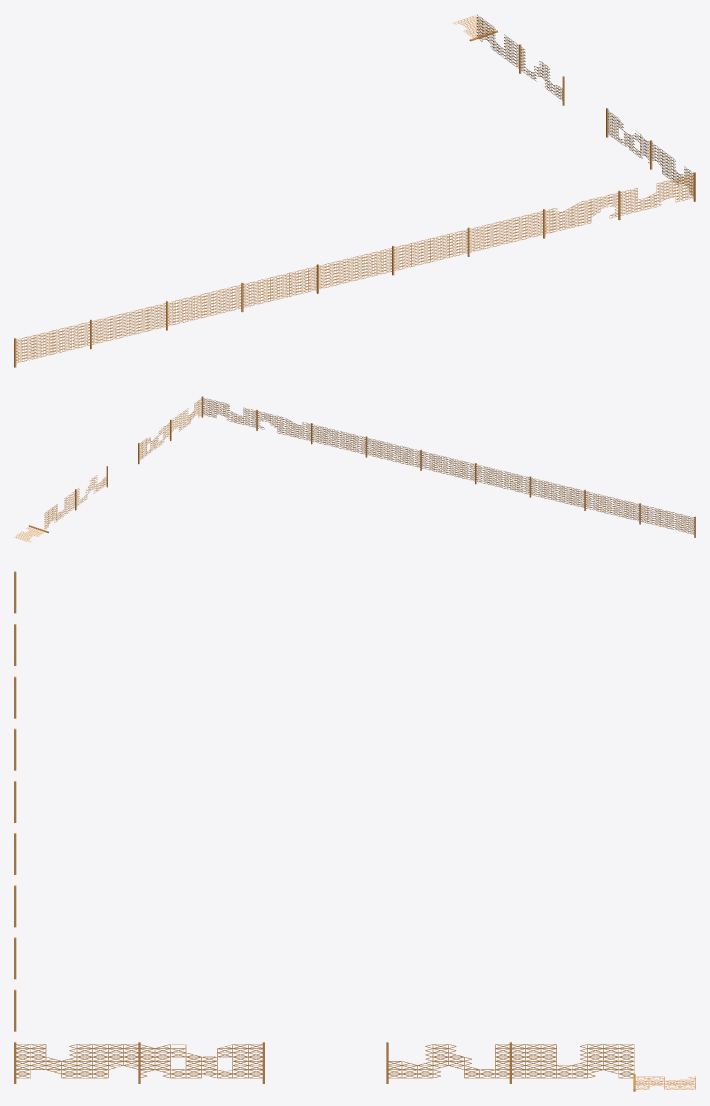
The model's file is 05 Broken_Fence.FBX.
3 renders of one model, top to bottom at view 1: azimuth 30°, elevation 25°; view 2: azimuth 150°, elevation 25°; view 3: azimuth 270°, elevation 25°, orthographic. The views are drawn at different scales.
Visible parts, largest first — view 1: Fence; view 2: Fence; view 3: Fence.
Boxes of the visible parts, <box> form: Fence: <box>14,14,695,367</box>; Fence: <box>14,396,695,542</box>; Fence: <box>14,571,695,1091</box>.
Size of the model in its own units: 9939 by 391 by 5899.
